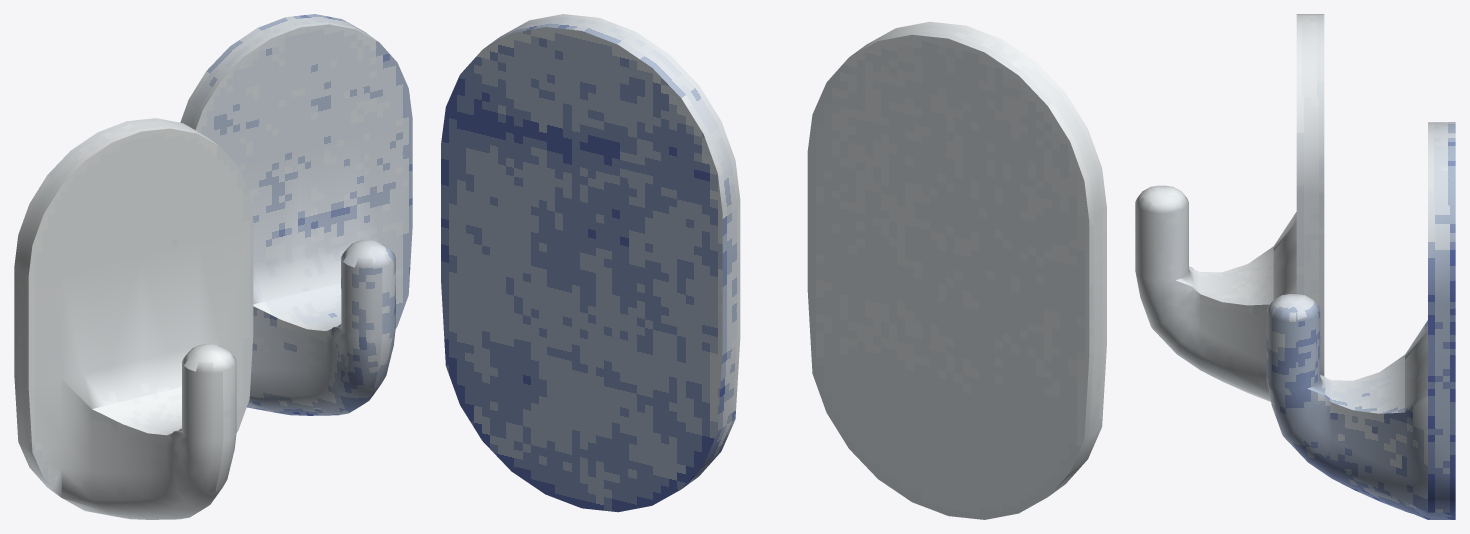
The model's file is coat_hook.glb.
3 views of the same model, side by side, from view 1: azimuth 30°, elevation 25°; view 2: azimuth 150°, elevation 25°; view 3: azimuth 270°, elevation 25° (orthographic). The views are drawn at different scales.
Parts seen in each view (by area): view 1: mesh; view 2: mesh; view 3: mesh.
Boxes of the visible parts, x1,y1,x2,y2 form: mesh: (14,14,412,519); mesh: (441,14,1106,519); mesh: (1135,14,1455,519).
Bounding box in the file's own units: 0.099 × 0.08 × 0.062.
1 material, 1 textured.
